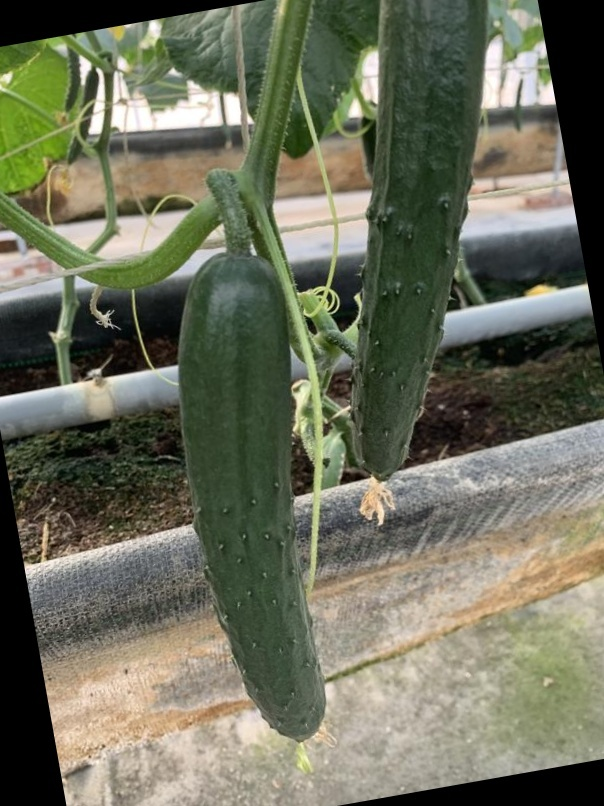mature: (167, 242, 328, 765), (349, 0, 493, 492)
